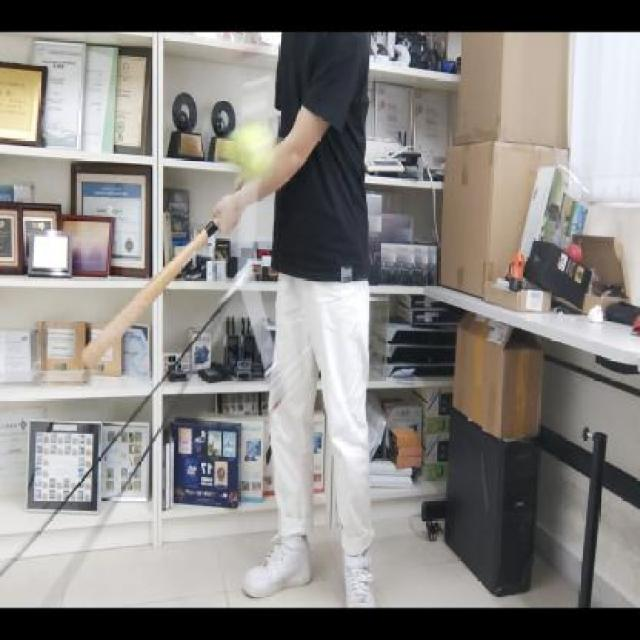baseball: (228, 118, 277, 182)
